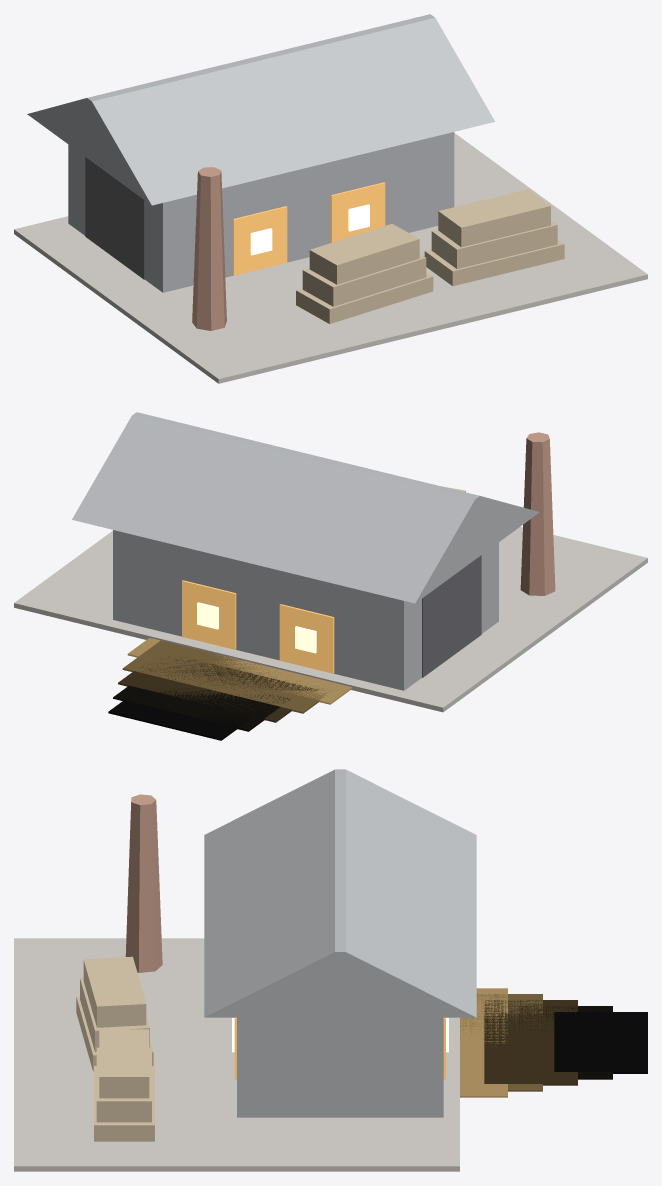
The model's file is plc_sawmill.glb.
3 views of the same model, one above another, from view 1: azimuth 30°, elevation 25°; view 2: azimuth 150°, elevation 25°; view 3: azimuth 270°, elevation 25° (orthographic). The views are drawn at different scales.
Visible parts, largest first — view 1: plc_sawmill; view 2: plc_sawmill; view 3: plc_sawmill.
Boxes of the visible parts, box(x1,y1,x2,y2) form: plc_sawmill: box(14, 14, 647, 383); plc_sawmill: box(14, 412, 647, 740); plc_sawmill: box(14, 769, 647, 1171).
Size of the model in its own units: 1.96 by 0.7378 by 2.29.
